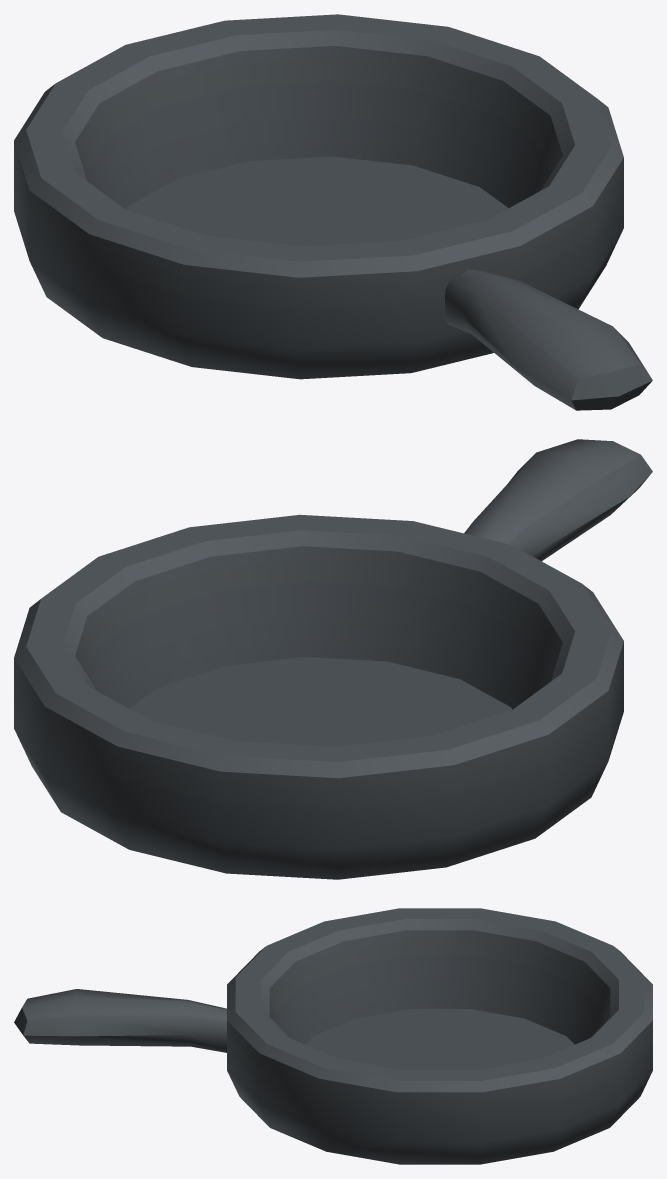
The model's file is pan-b.glb.
The picture shows the model from 3 angles, top to bottom: view 1: azimuth 30°, elevation 25°; view 2: azimuth 150°, elevation 25°; view 3: azimuth 270°, elevation 25°; orthographic projection. The views are drawn at different scales.
Visible parts, largest first — view 1: pan_B; view 2: pan_B; view 3: pan_B.
Boxes of the visible parts, x1,y1,x2,y2 form: pan_B: [14, 14, 652, 410]; pan_B: [14, 439, 652, 879]; pan_B: [14, 908, 652, 1164].
Bounding box in the file's own units: 1 × 0.2499 × 1.5.
1 material, 1 textured.
